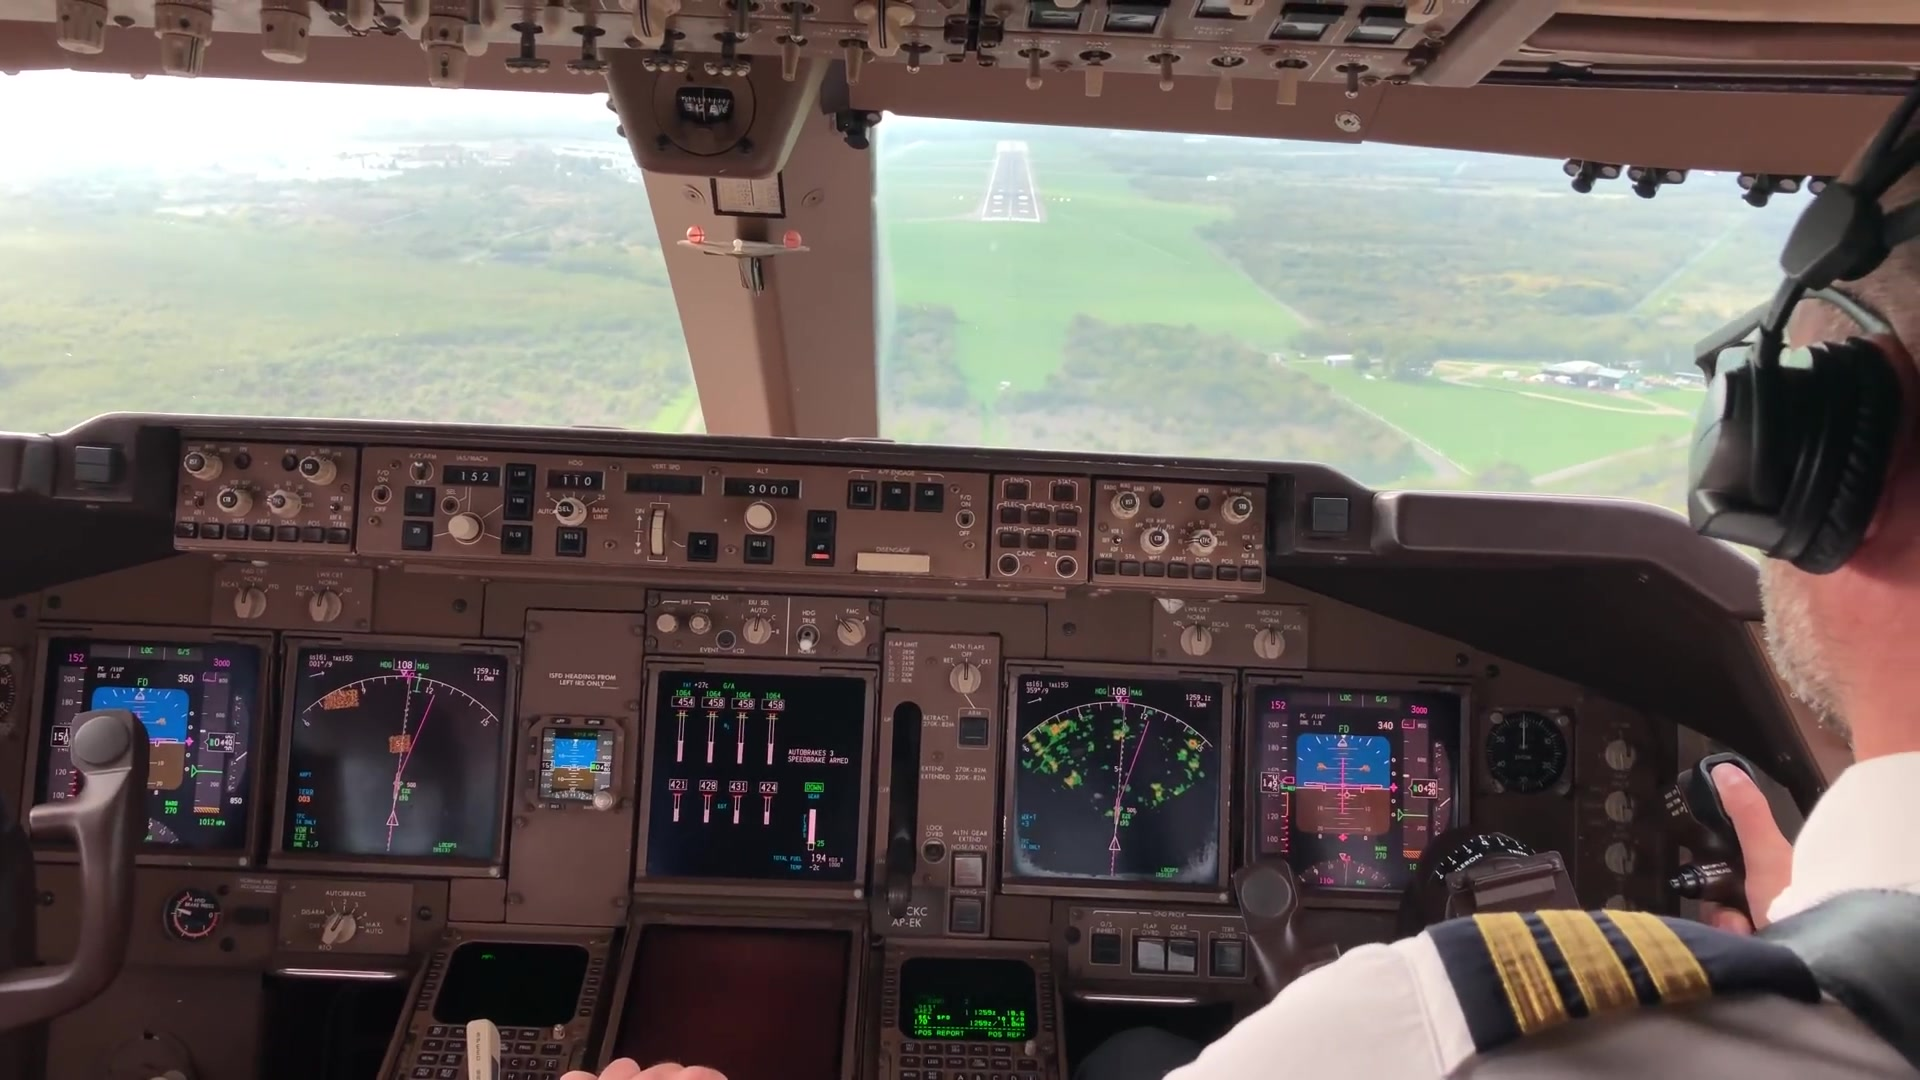runway: (977, 146, 1047, 224)
